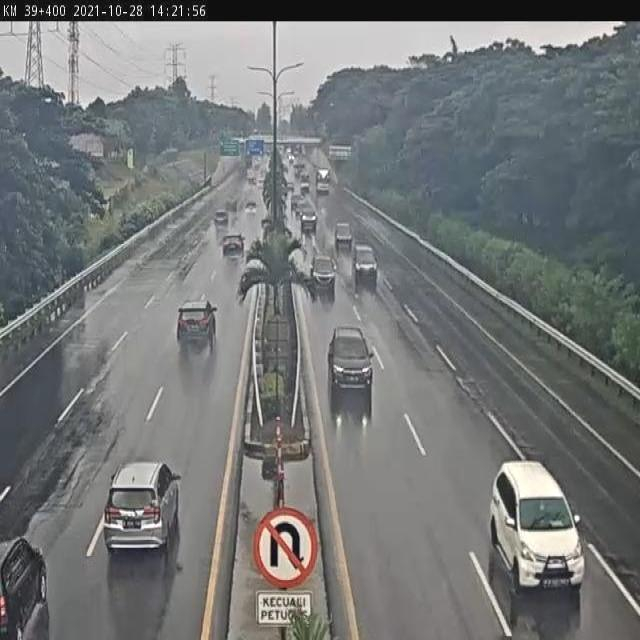Bus: (316, 168, 330, 194)
Car: (490, 460, 584, 592), (92, 454, 194, 569), (0, 538, 49, 638), (328, 325, 374, 411), (176, 298, 218, 350), (352, 244, 378, 292), (311, 255, 337, 302), (222, 233, 246, 261), (335, 222, 353, 252), (300, 207, 318, 234), (214, 209, 228, 227), (290, 194, 302, 213), (245, 200, 257, 215), (300, 178, 310, 195), (294, 162, 304, 178), (285, 180, 294, 193), (247, 172, 256, 184), (257, 174, 265, 187)
